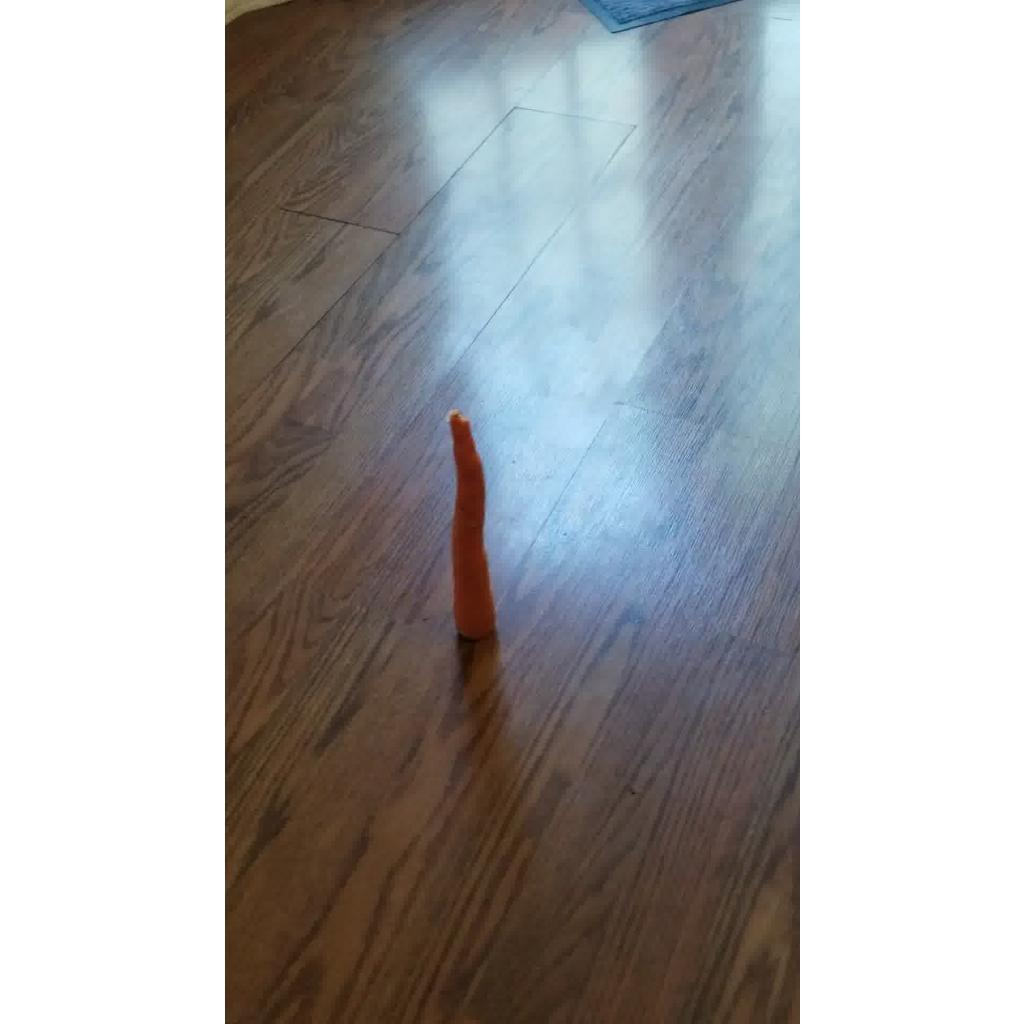carrot: (448, 410, 494, 640)
